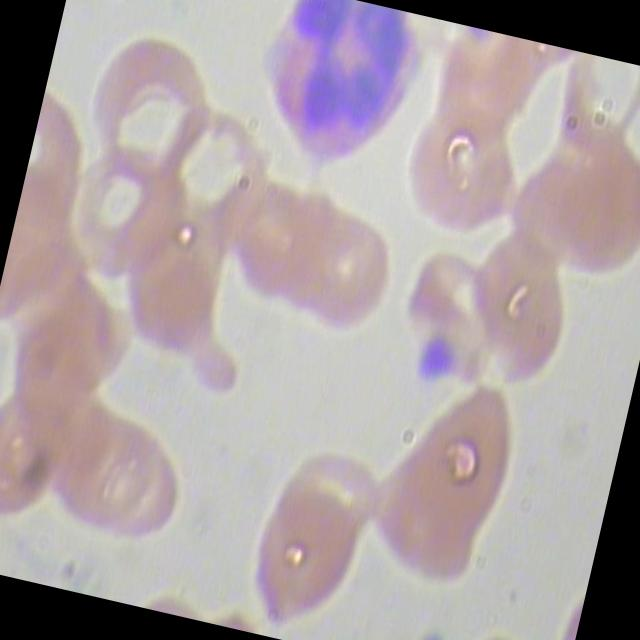Platelets: (406, 337, 460, 395), (407, 626, 458, 640)
RBC: (352, 365, 541, 610), (68, 25, 230, 206), (140, 96, 284, 260), (52, 137, 195, 301), (392, 96, 532, 262), (269, 190, 409, 355), (446, 230, 586, 394), (233, 477, 372, 640), (536, 132, 640, 297)
WBC: (237, 0, 442, 186)
